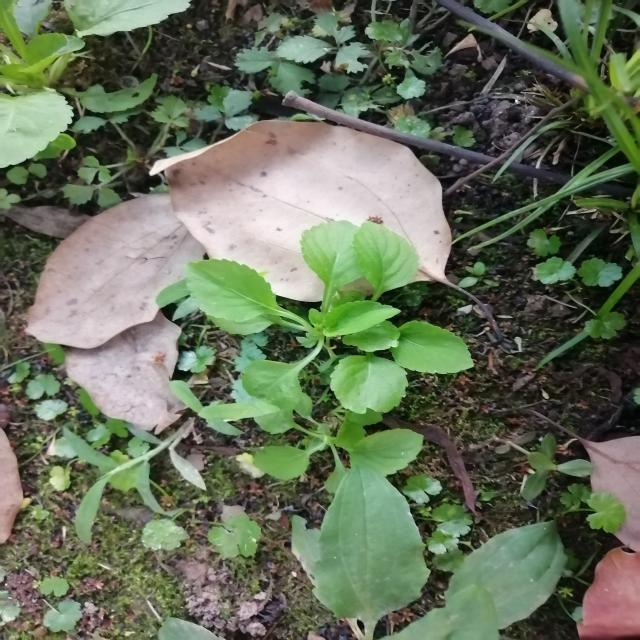Viola: (134, 187, 480, 464)
